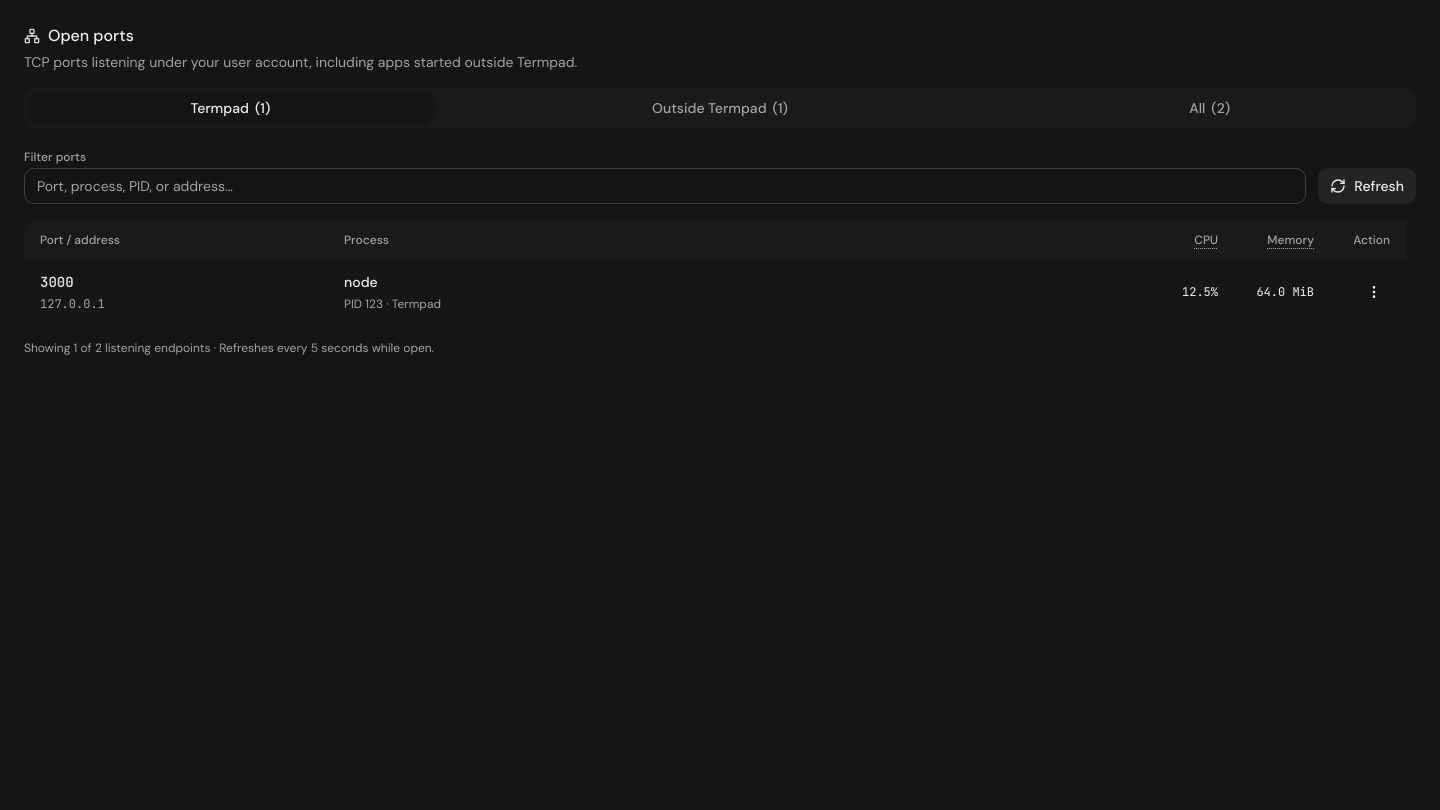
Scenario: Open ports › reports terminal cleanup errors separately from the successful stop request
Press Enter in the button named "Actions for node on port 3000 (PID 123)", box [1358,276,1390,308]
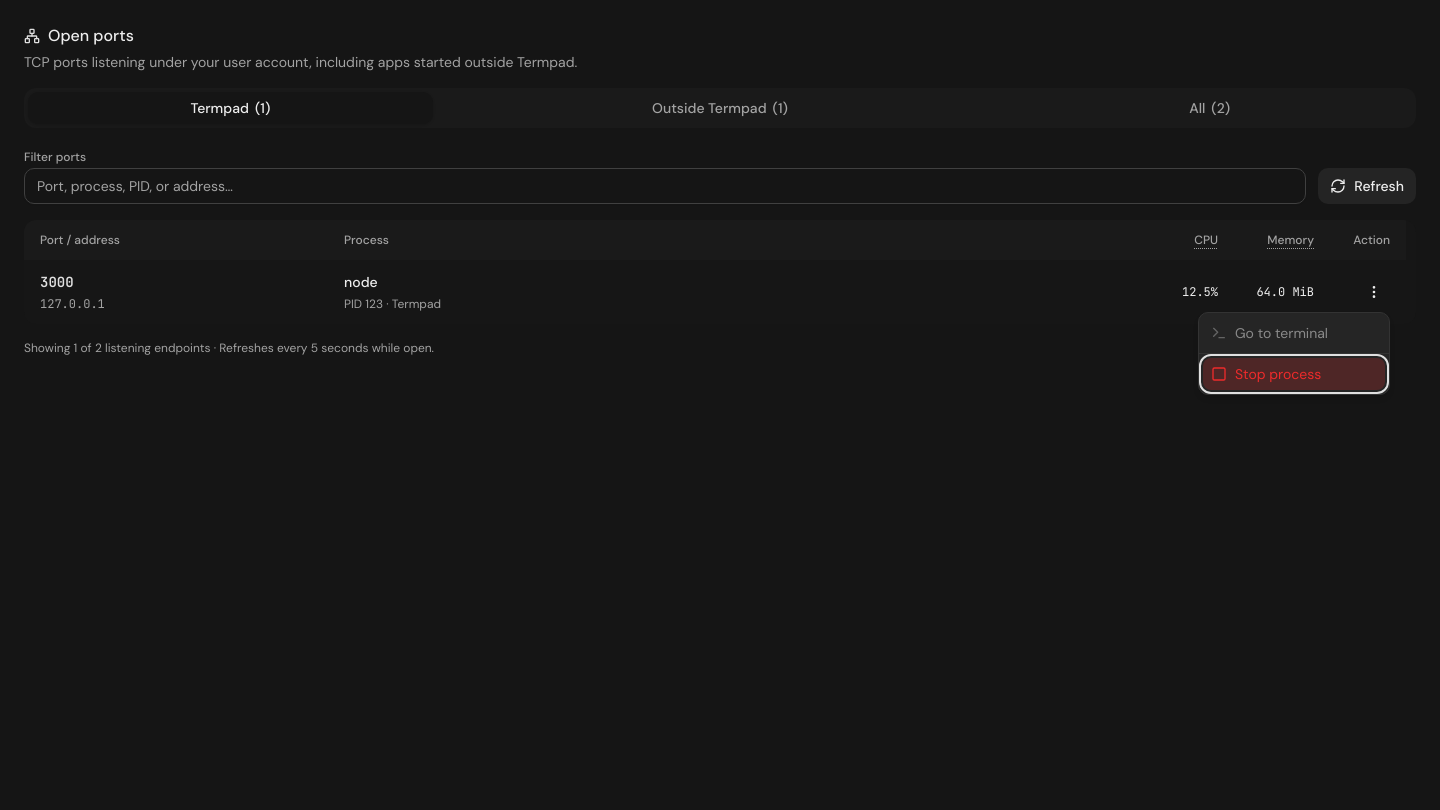
Result: the menu is shown at [1198,312,1390,395]
Click the menu item "Stop process" at (1294, 374), box [1203,358,1385,390]
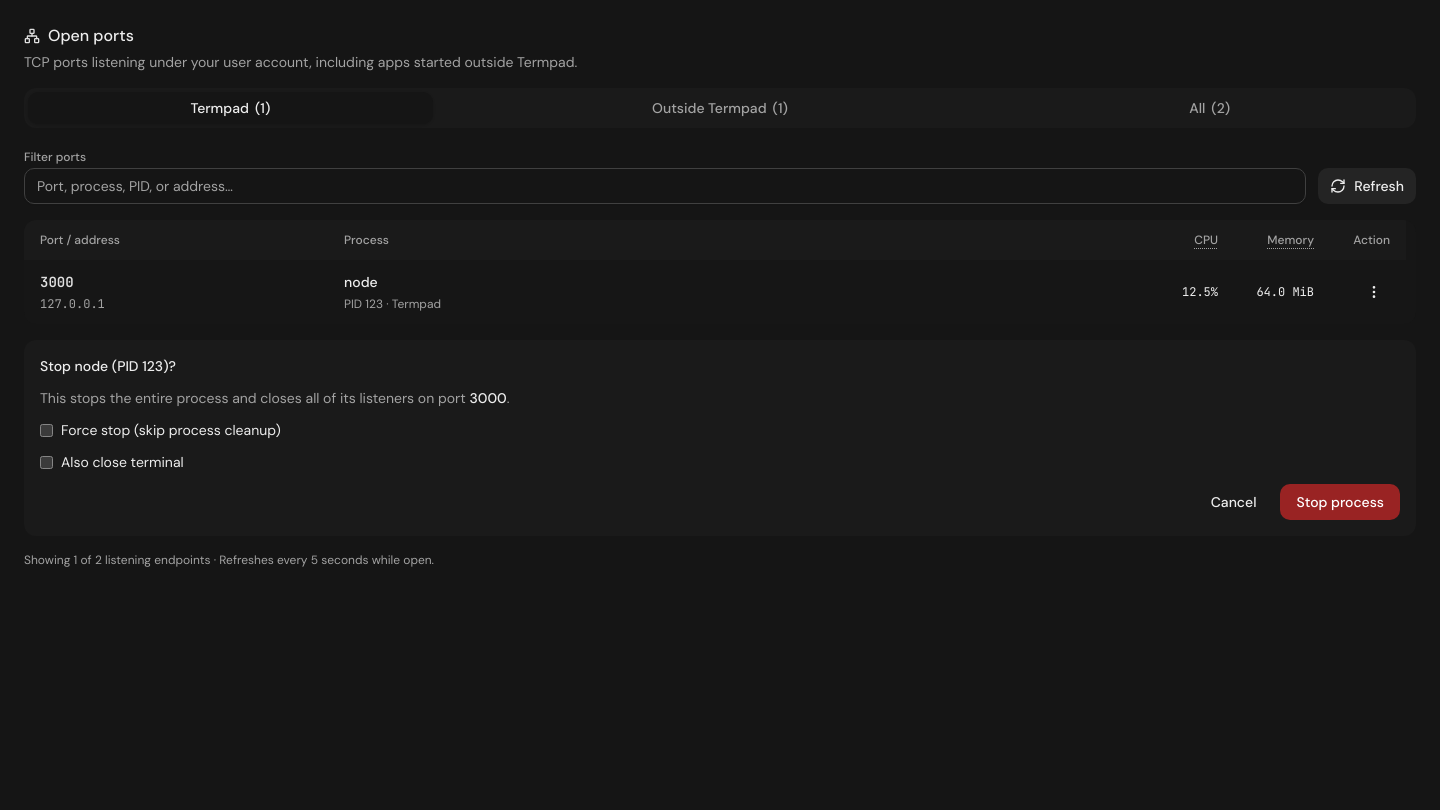
Click the checkbox labelled "Also close terminal" at (46, 462), box [40,456,53,468]
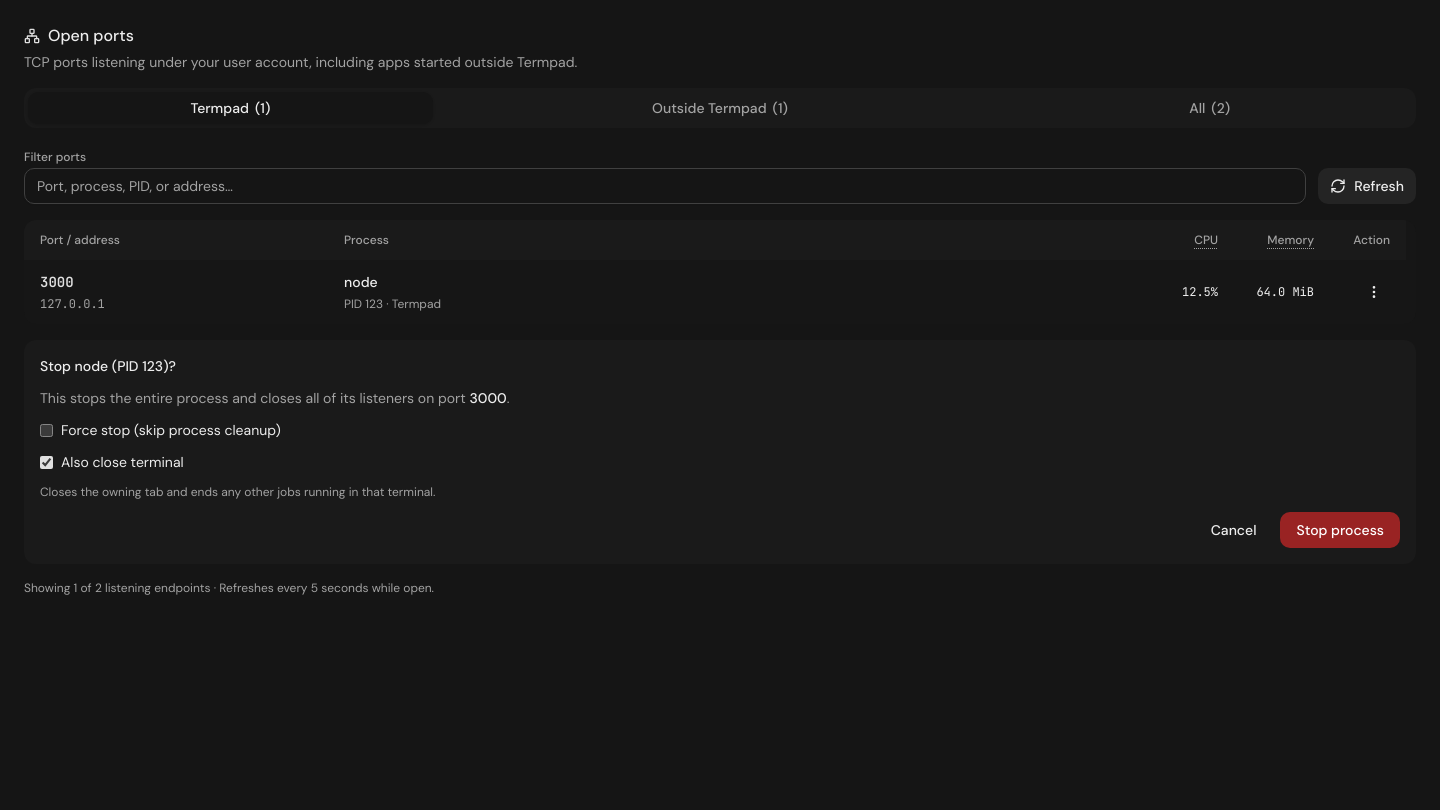
Click the button "Stop process" at (1340, 530), box [1280,512,1400,548]
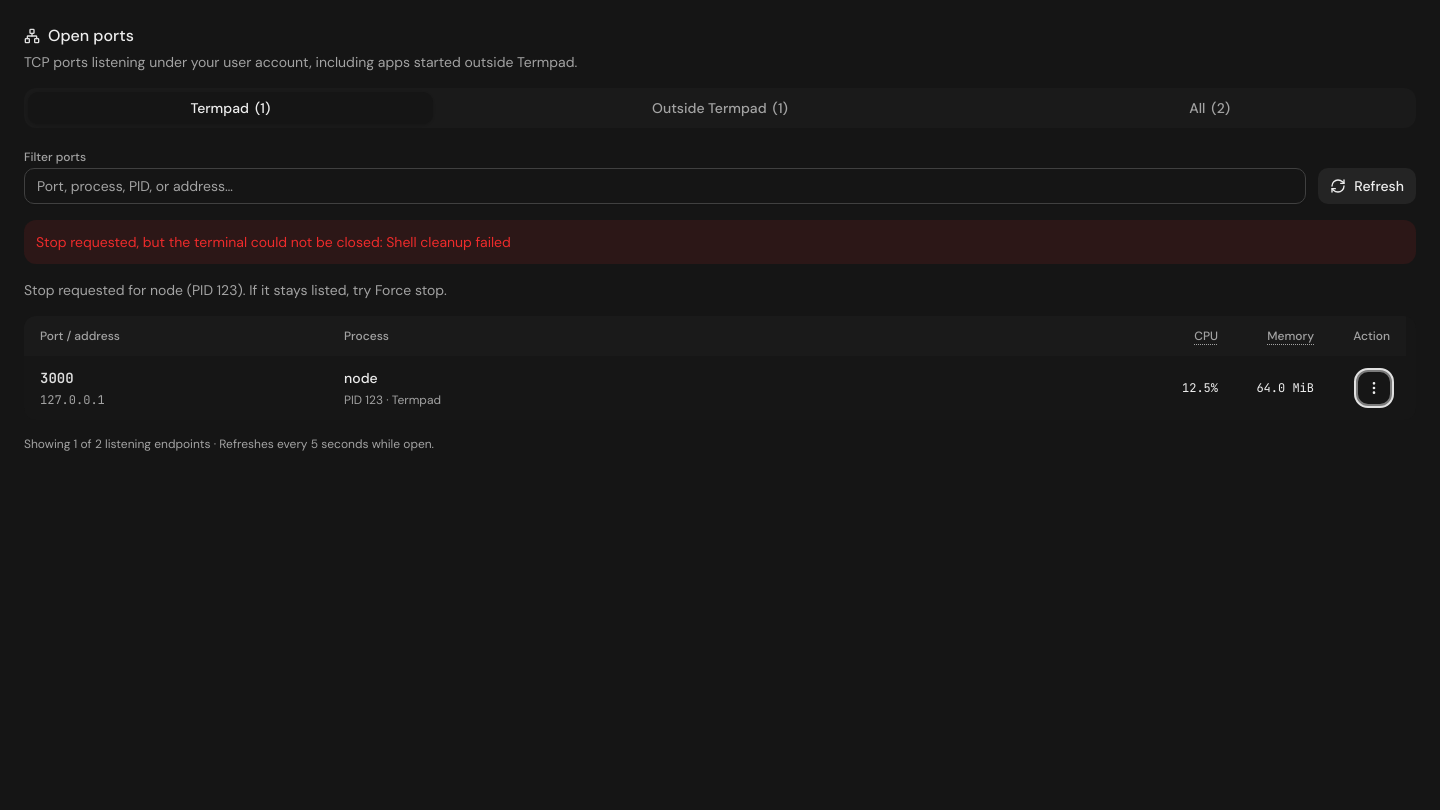
Result: the message "Stop requested, but the terminal could not be closed: Shell cleanup failed" is shown at [24,220,1416,264]
